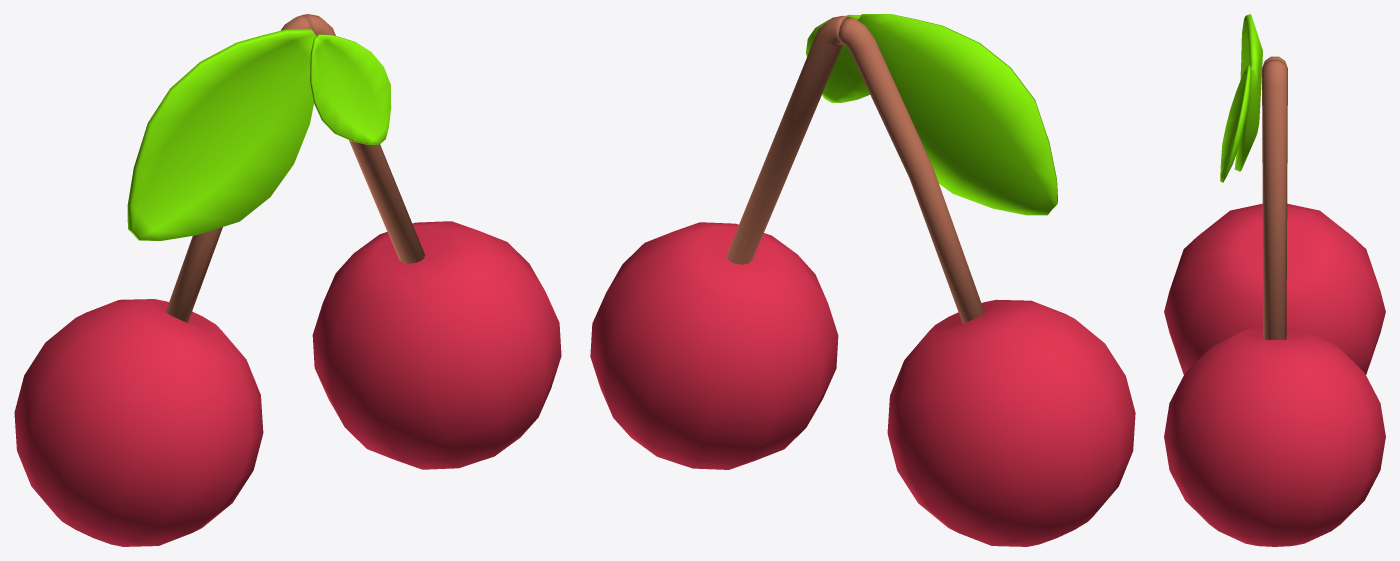
The model's file is SM_Cherry_02a.fbx.
3 renders of one model, left to right at view 1: azimuth 30°, elevation 25°; view 2: azimuth 150°, elevation 25°; view 3: azimuth 270°, elevation 25°, orthographic. The views are drawn at different scales.
Parts seen in each view (by area): view 1: Cherry_02, Cherry_01; view 2: Cherry_02, Cherry_01; view 3: Cherry_01, Cherry_02.
Part boxes in pixels (left/top/right/bottom): Cherry_02: left=14, top=15, right=316, bottom=546; Cherry_01: left=303, top=14, right=561, bottom=469; Cherry_02: left=838, top=14, right=1135, bottom=546; Cherry_01: left=590, top=14, right=869, bottom=469; Cherry_01: left=1164, top=59, right=1385, bottom=546; Cherry_02: left=1164, top=14, right=1385, bottom=374.
Bounding box in the file's own units: 49.44 × 44.31 × 20.88.
